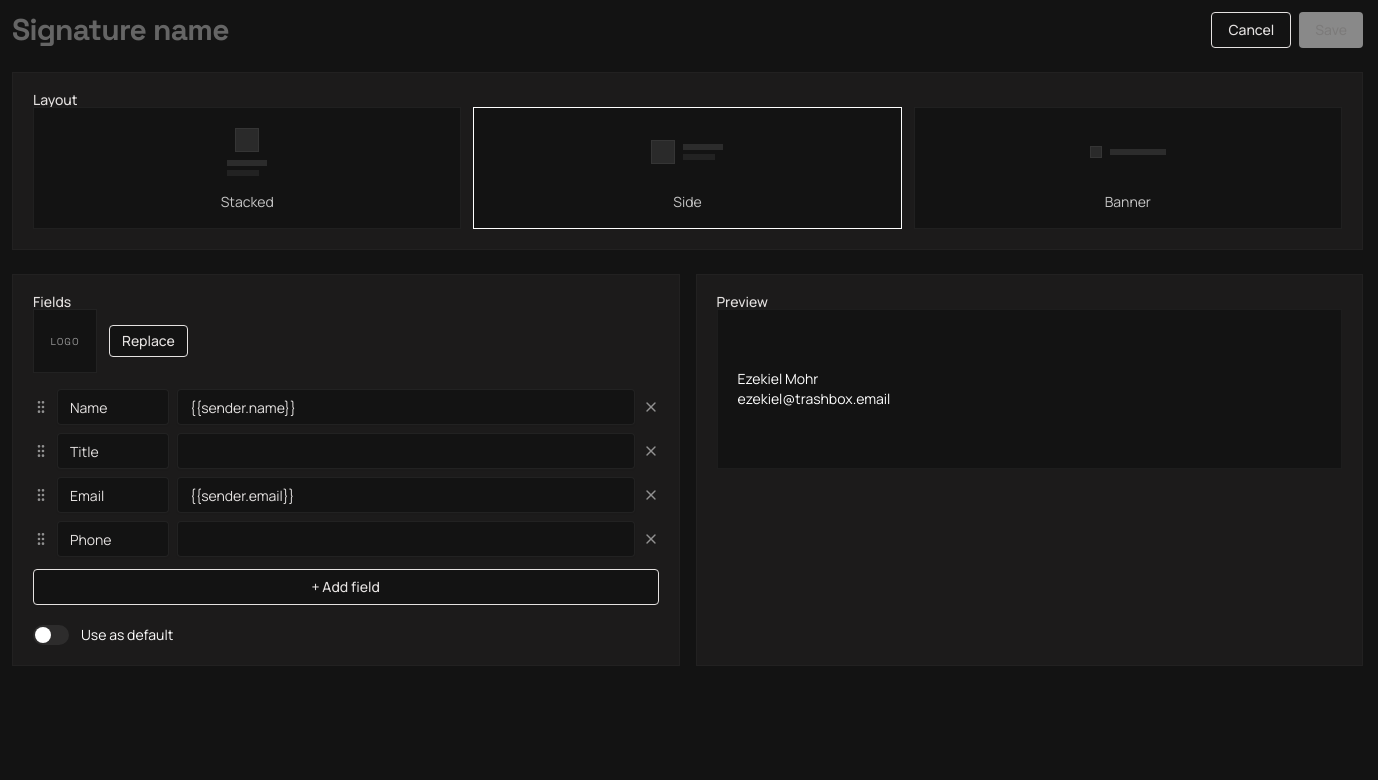
Scenario: SignatureBuilder › joins preview lines when the banner layout is selected
The width and height of the screenshot is (1378, 780).
Click the radio button labelled "Banner" at (1138, 152), box [914, 107, 1342, 229]
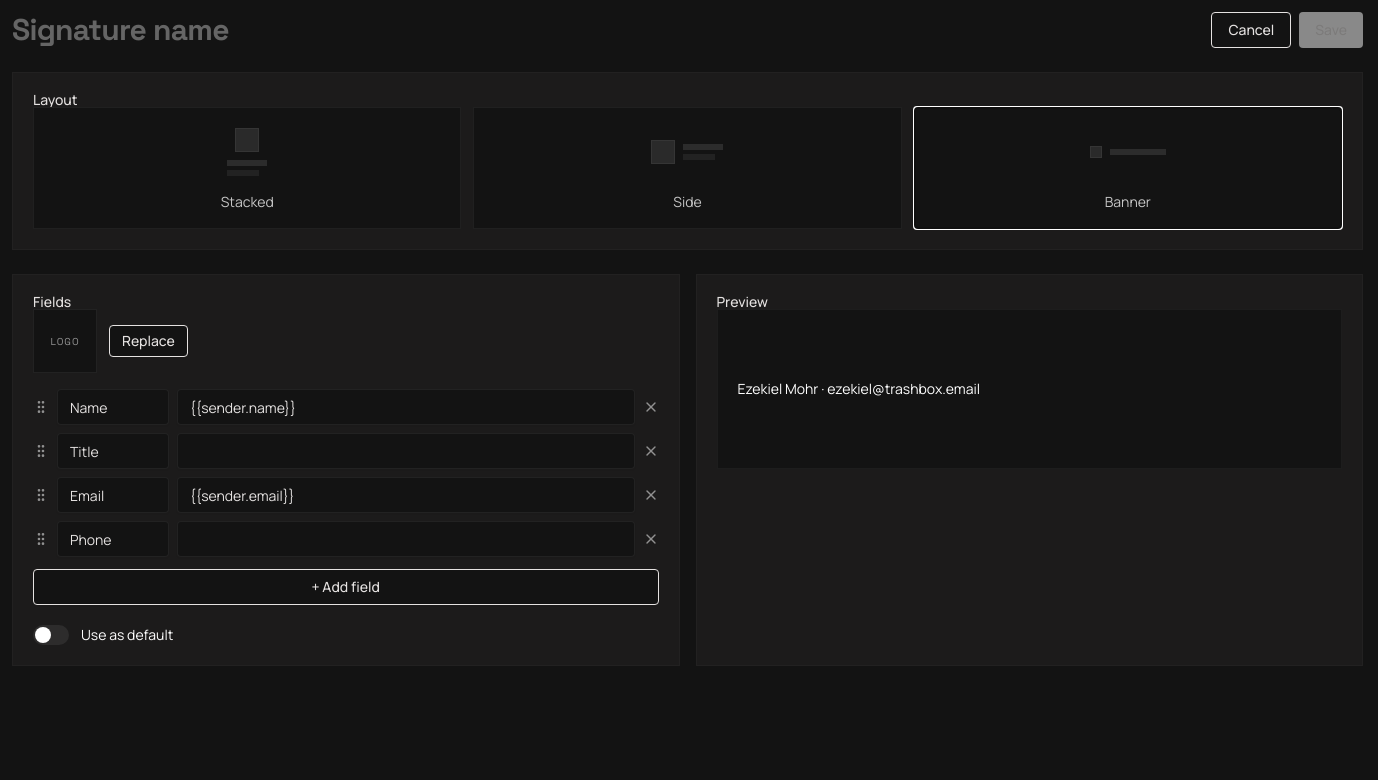
expect the element named "preview" reads "Ezekiel Mohr · ezekiel@trashbox.email": met, box [738, 379, 980, 398]
